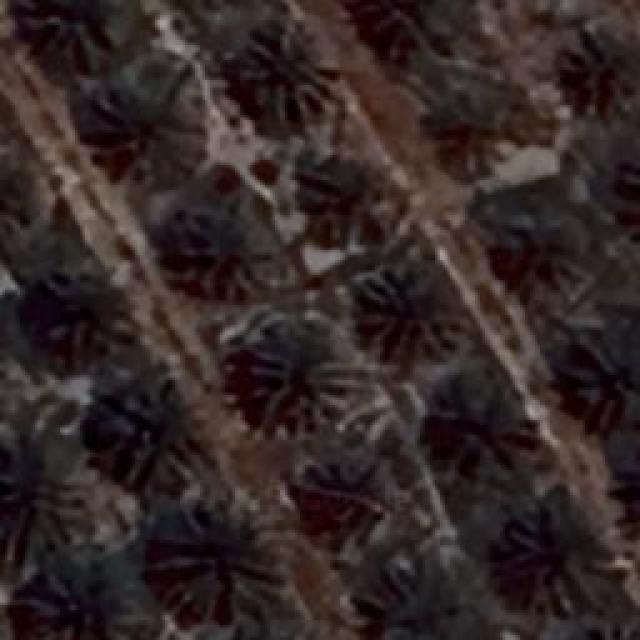PalmTree: (76, 76, 202, 179), (220, 318, 342, 424), (235, 22, 340, 128), (502, 511, 606, 611), (286, 145, 392, 243), (160, 516, 270, 609), (98, 388, 206, 482), (364, 268, 474, 360), (432, 378, 526, 472), (170, 192, 262, 286), (25, 0, 130, 72), (25, 565, 125, 640), (418, 87, 512, 165), (292, 444, 388, 518), (1, 442, 74, 536), (36, 280, 126, 355), (557, 22, 640, 102), (486, 202, 574, 272), (388, 562, 460, 640), (572, 340, 638, 425), (370, 0, 455, 60), (0, 148, 38, 233), (565, 615, 640, 640)
